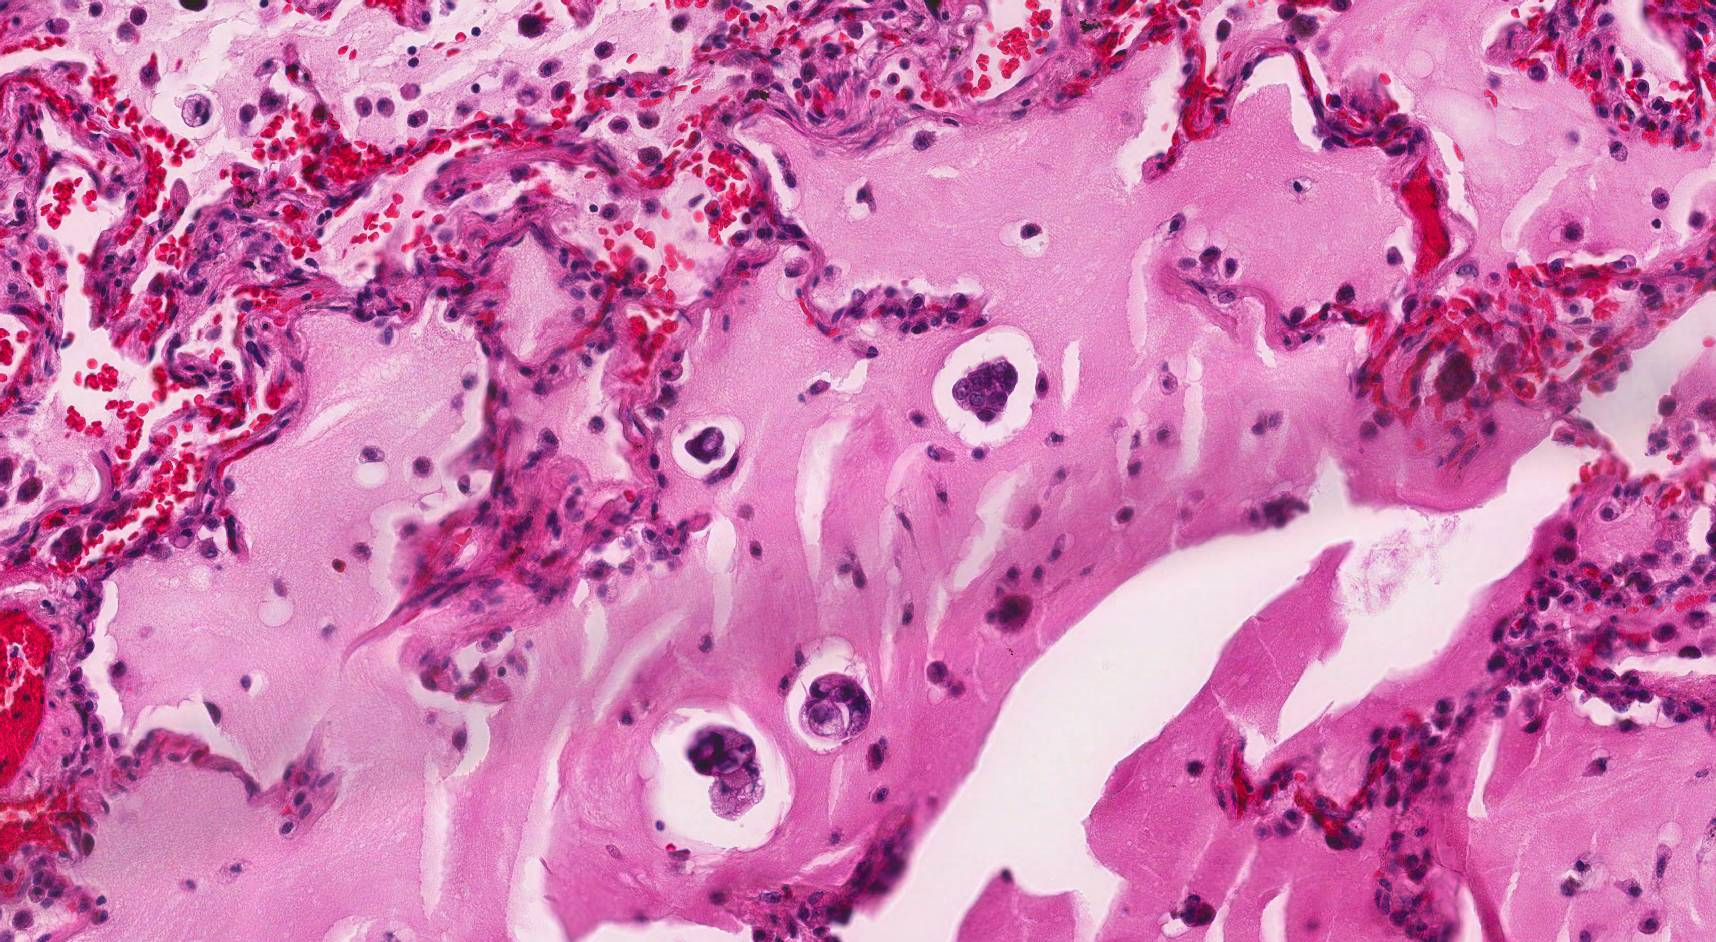stas: (685, 724, 767, 824), (799, 673, 869, 740), (953, 355, 1018, 424), (685, 427, 724, 465)
